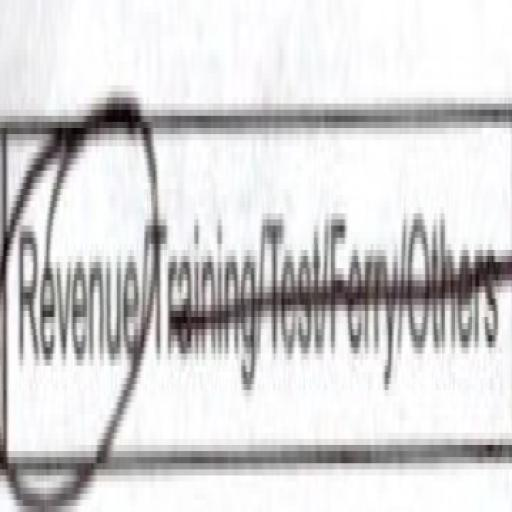check: (0, 34, 150, 512)
